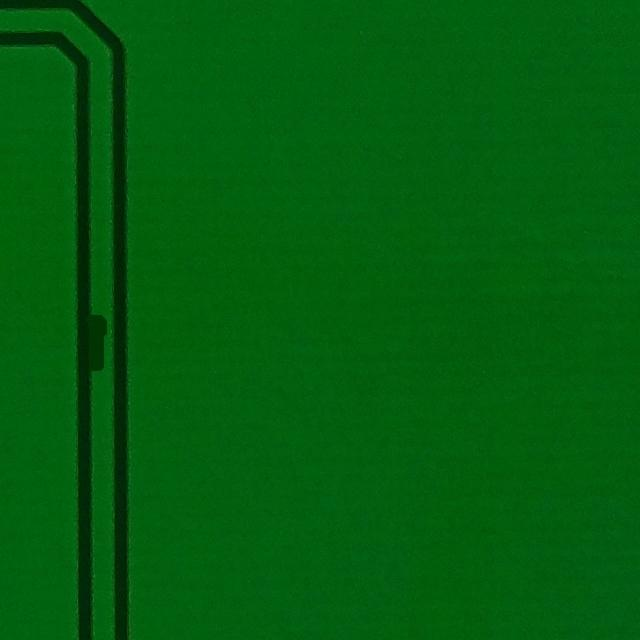mouse_bite: (79, 305, 123, 388)
